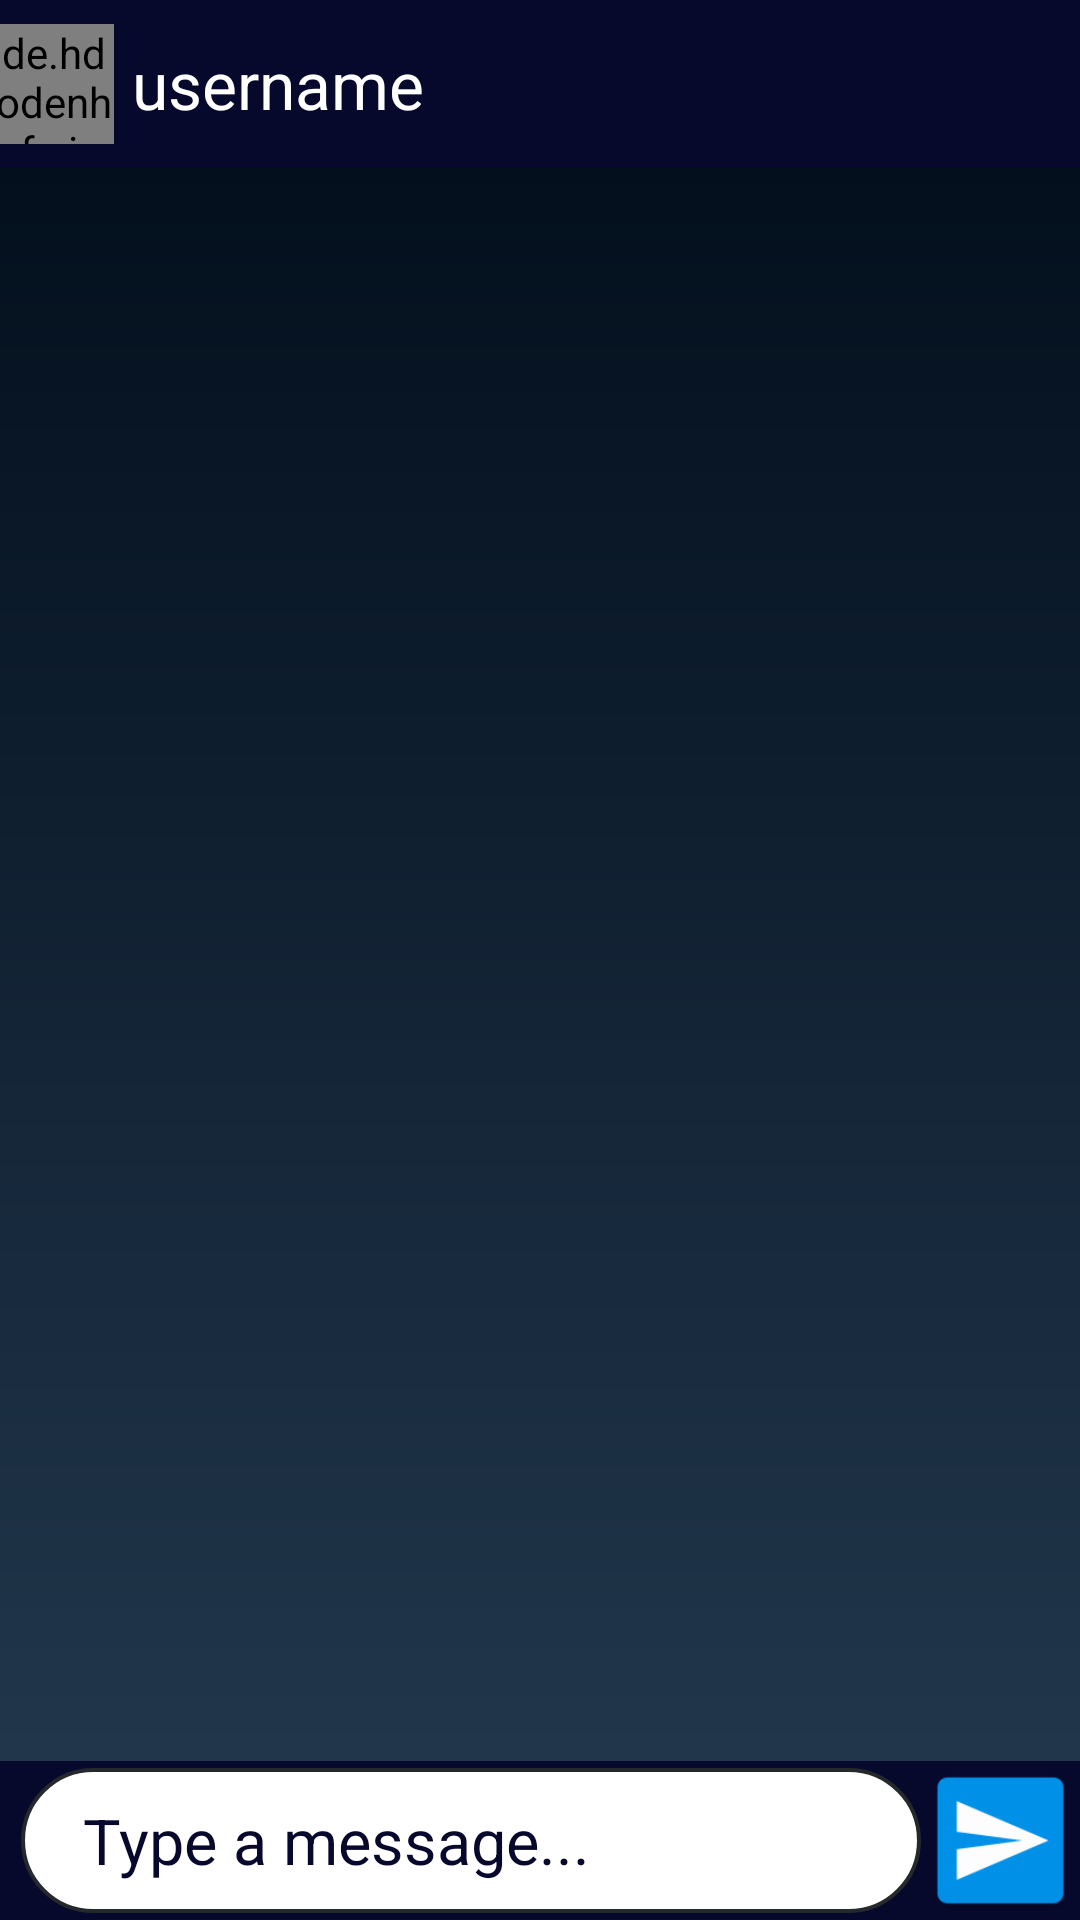

Icon click points for this 1080px×1920px phone screenshot, format point (x, y):
sendtre: point (1000, 1840)
